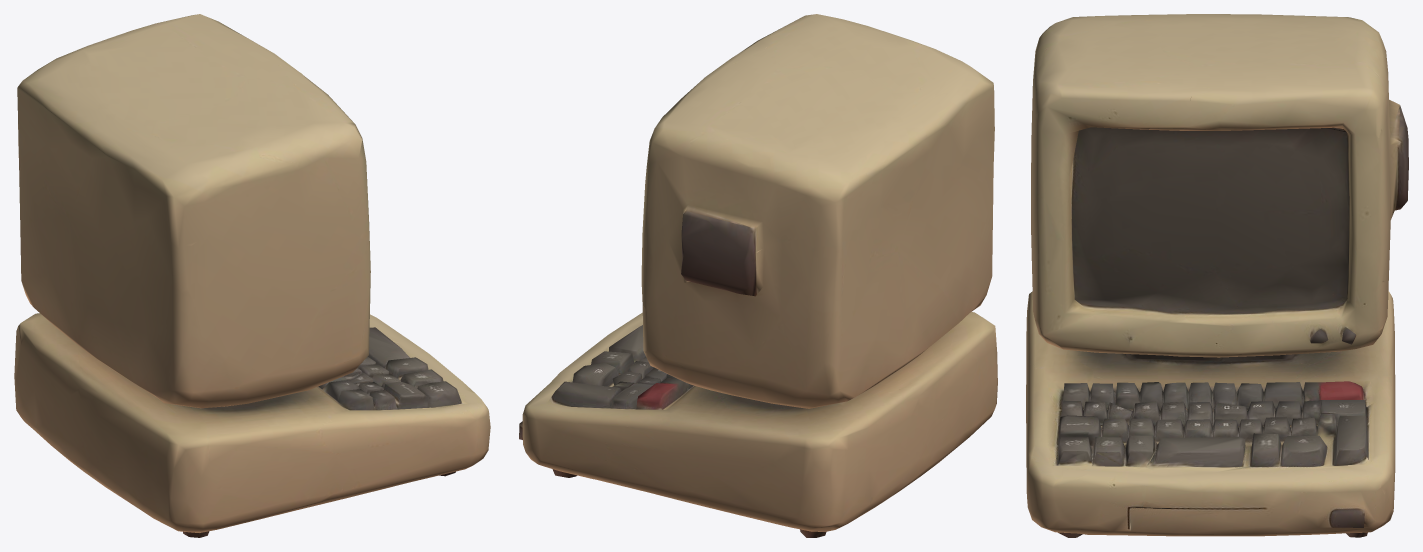
File: pos.glb
The picture shows the model from 3 angles, left to right: view 1: azimuth 30°, elevation 25°; view 2: azimuth 150°, elevation 25°; view 3: azimuth 270°, elevation 25°; orthographic projection. The views are drawn at different scales.
Parts seen in each view (by area): view 1: tripo_node_8eeec731-f5ce-43ec-a5a6-23667d00bd1f; view 2: tripo_node_8eeec731-f5ce-43ec-a5a6-23667d00bd1f; view 3: tripo_node_8eeec731-f5ce-43ec-a5a6-23667d00bd1f.
Part boxes in pixels (x1,y1,x2,y2): tripo_node_8eeec731-f5ce-43ec-a5a6-23667d00bd1f: [14, 14, 490, 537]; tripo_node_8eeec731-f5ce-43ec-a5a6-23667d00bd1f: [519, 14, 997, 537]; tripo_node_8eeec731-f5ce-43ec-a5a6-23667d00bd1f: [1026, 14, 1408, 537].
Size of the model in its own units: 0.9184 by 1 by 0.8721.
1 material, 1 textured.
